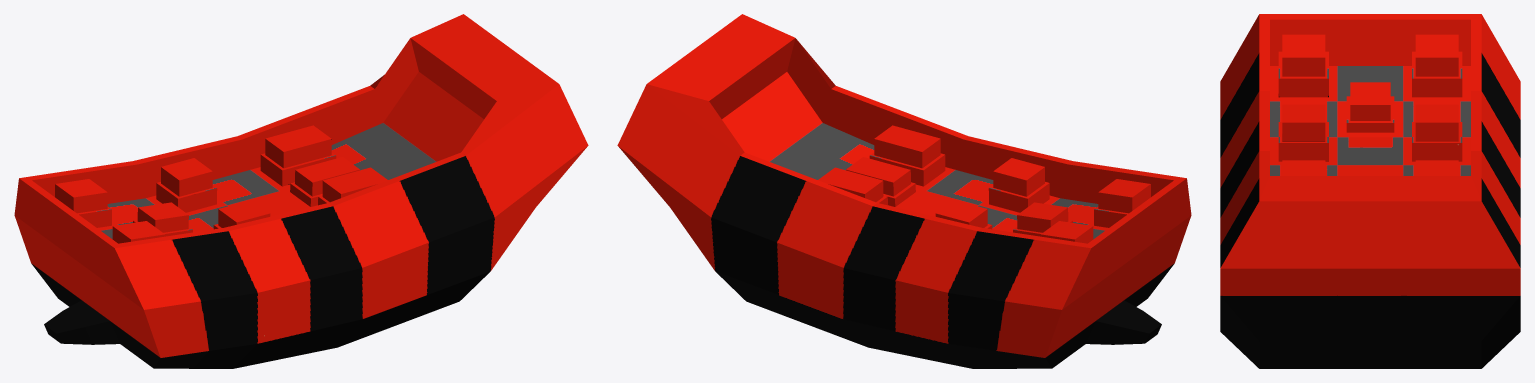
File: Bruiser.fbx
3 views of the same model, side by side, from view 1: azimuth 30°, elevation 25°; view 2: azimuth 150°, elevation 25°; view 3: azimuth 270°, elevation 25° (orthographic). The views are drawn at different scales.
Parts seen in each view (by area): view 1: boat3; view 2: boat3; view 3: boat3.
Part boxes in pixels (box(x1,y1,x2,y2)): boat3: box(14, 14, 588, 368); boat3: box(617, 14, 1191, 368); boat3: box(1220, 14, 1520, 368).
Bounding box in the file's own units: 1605 × 678 × 760.
1 material, 1 textured.
